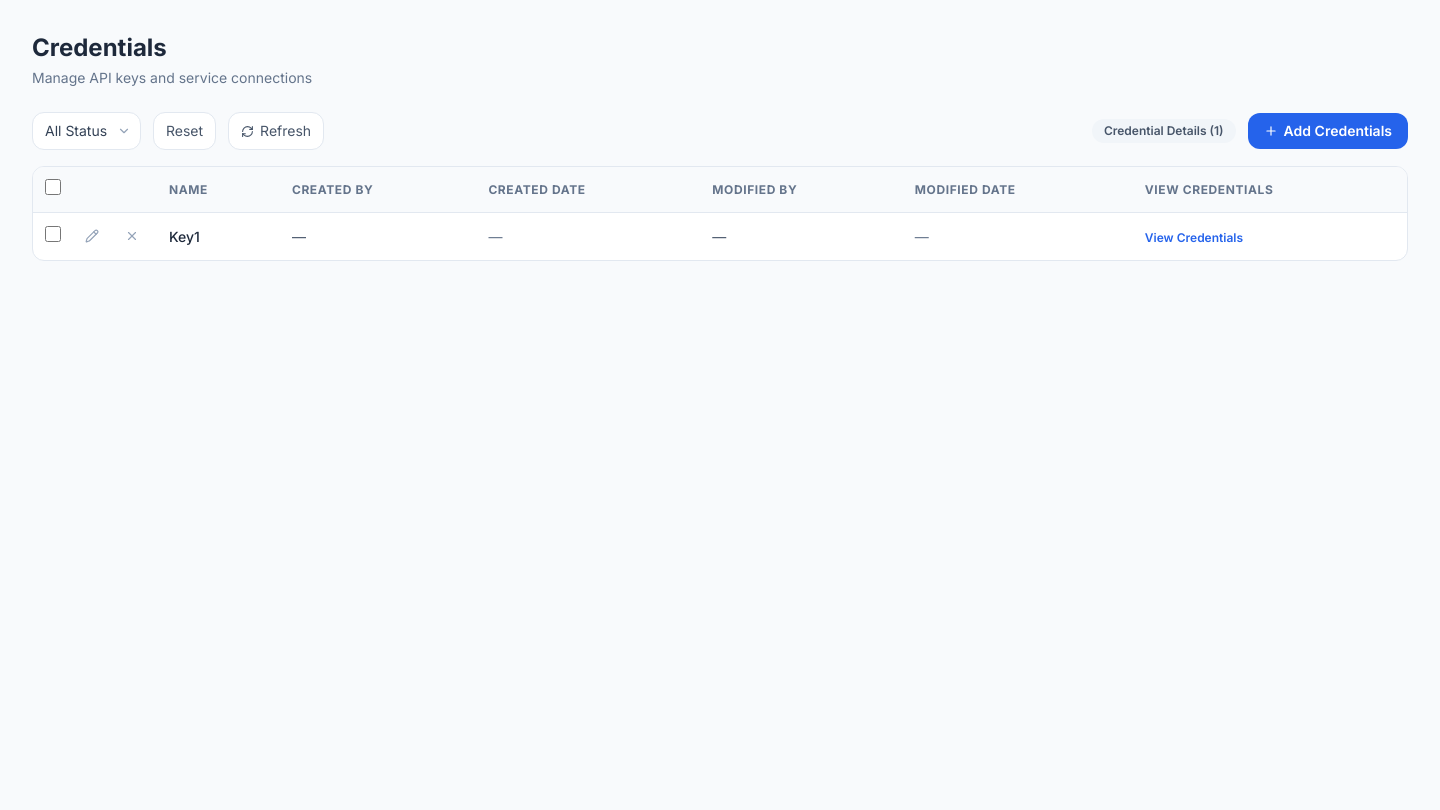
Test case: CredentialsPage › delete button shows confirmation dialog
Click the X/delete button
What coordinates should you click on to do the following:
click the button titled "Delete"
I would click on:
 (132, 236)
Its box is [121, 225, 143, 247].
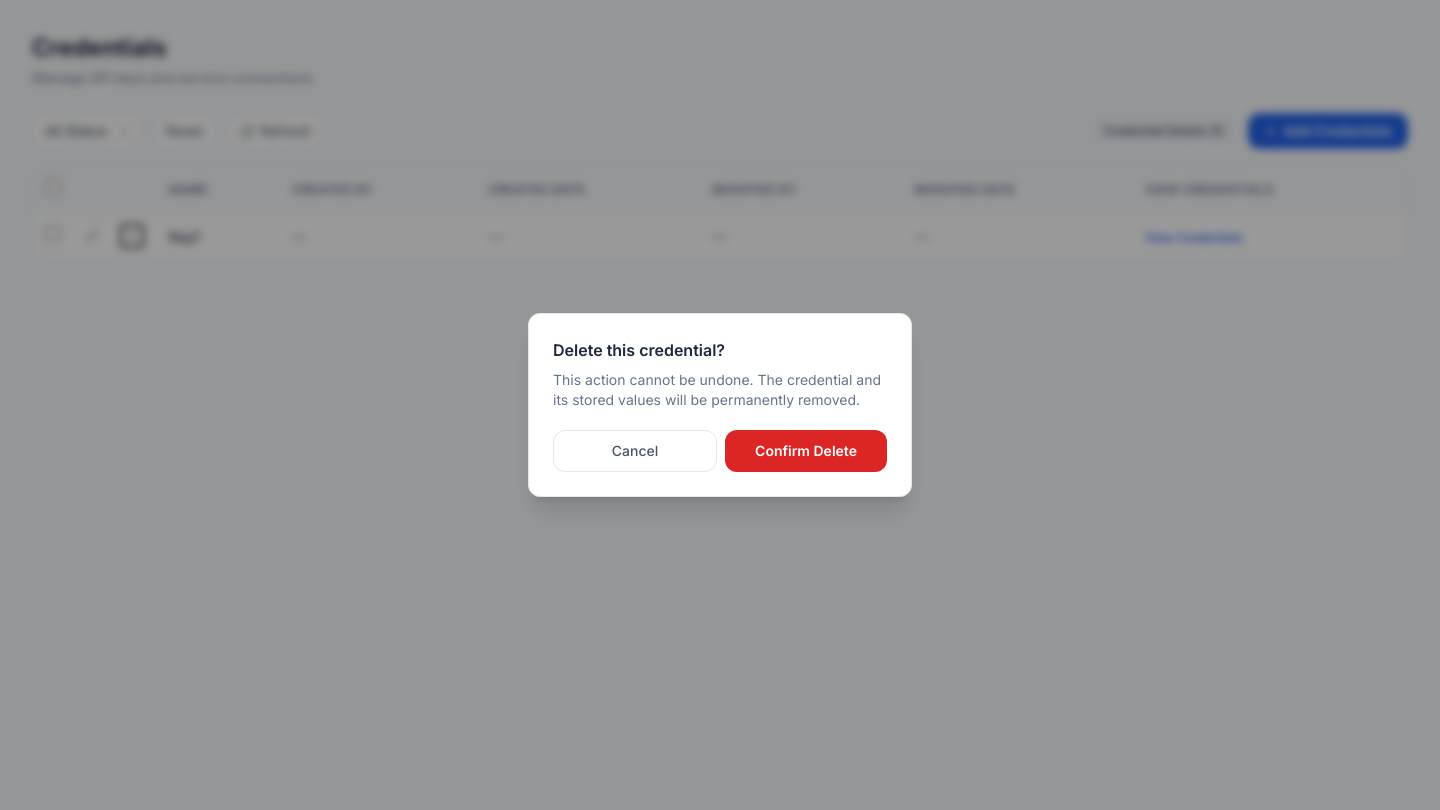
Expected: the heading "Delete this credential?" is shown, [553, 340, 725, 360]
Expected: the button "Confirm Delete" is shown, [725, 430, 887, 472]
